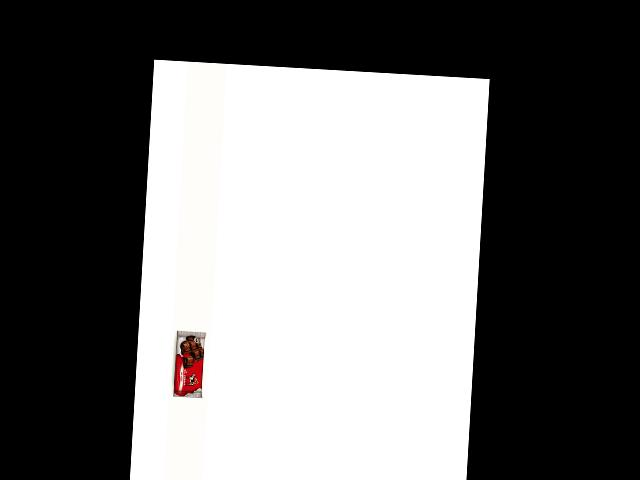chocolate: (156, 328, 201, 408)
